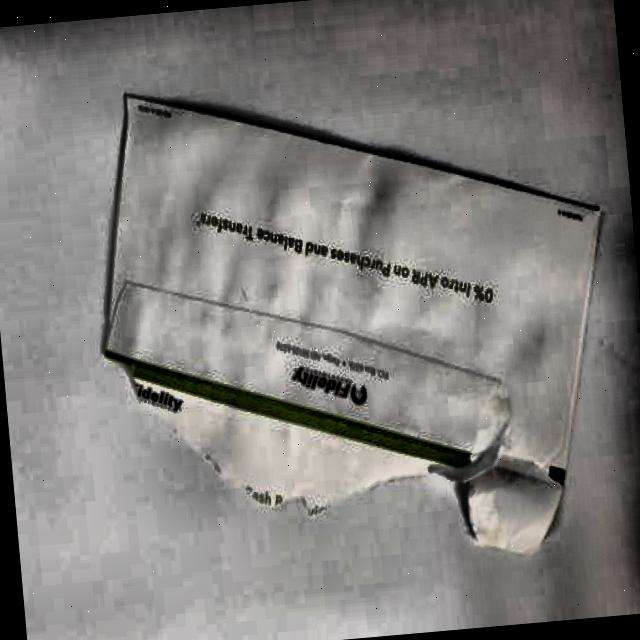paper: (79, 44, 628, 591)
